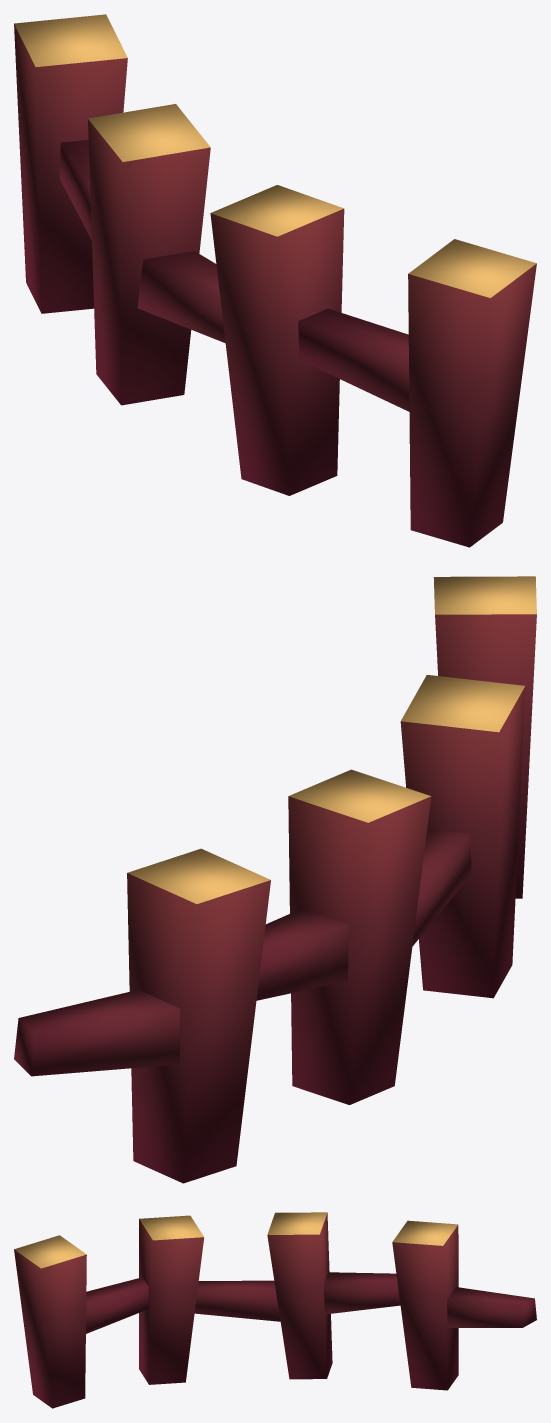
The model's file is fence-curved2.fbx.
The picture shows the model from 3 angles, top to bottom: view 1: azimuth 30°, elevation 25°; view 2: azimuth 150°, elevation 25°; view 3: azimuth 270°, elevation 25°; orthographic projection. The views are drawn at different scales.
Visible parts, largest first — view 1: Cylinder.024; view 2: Cylinder.024; view 3: Cylinder.024.
Part boxes in pixels (<box>): Cylinder.024: <box>14,14,536,547</box>; Cylinder.024: <box>14,576,536,1183</box>; Cylinder.024: <box>14,1212,536,1408</box>.
Size of the model in its own units: 10.08 by 12.47 by 39.44.
